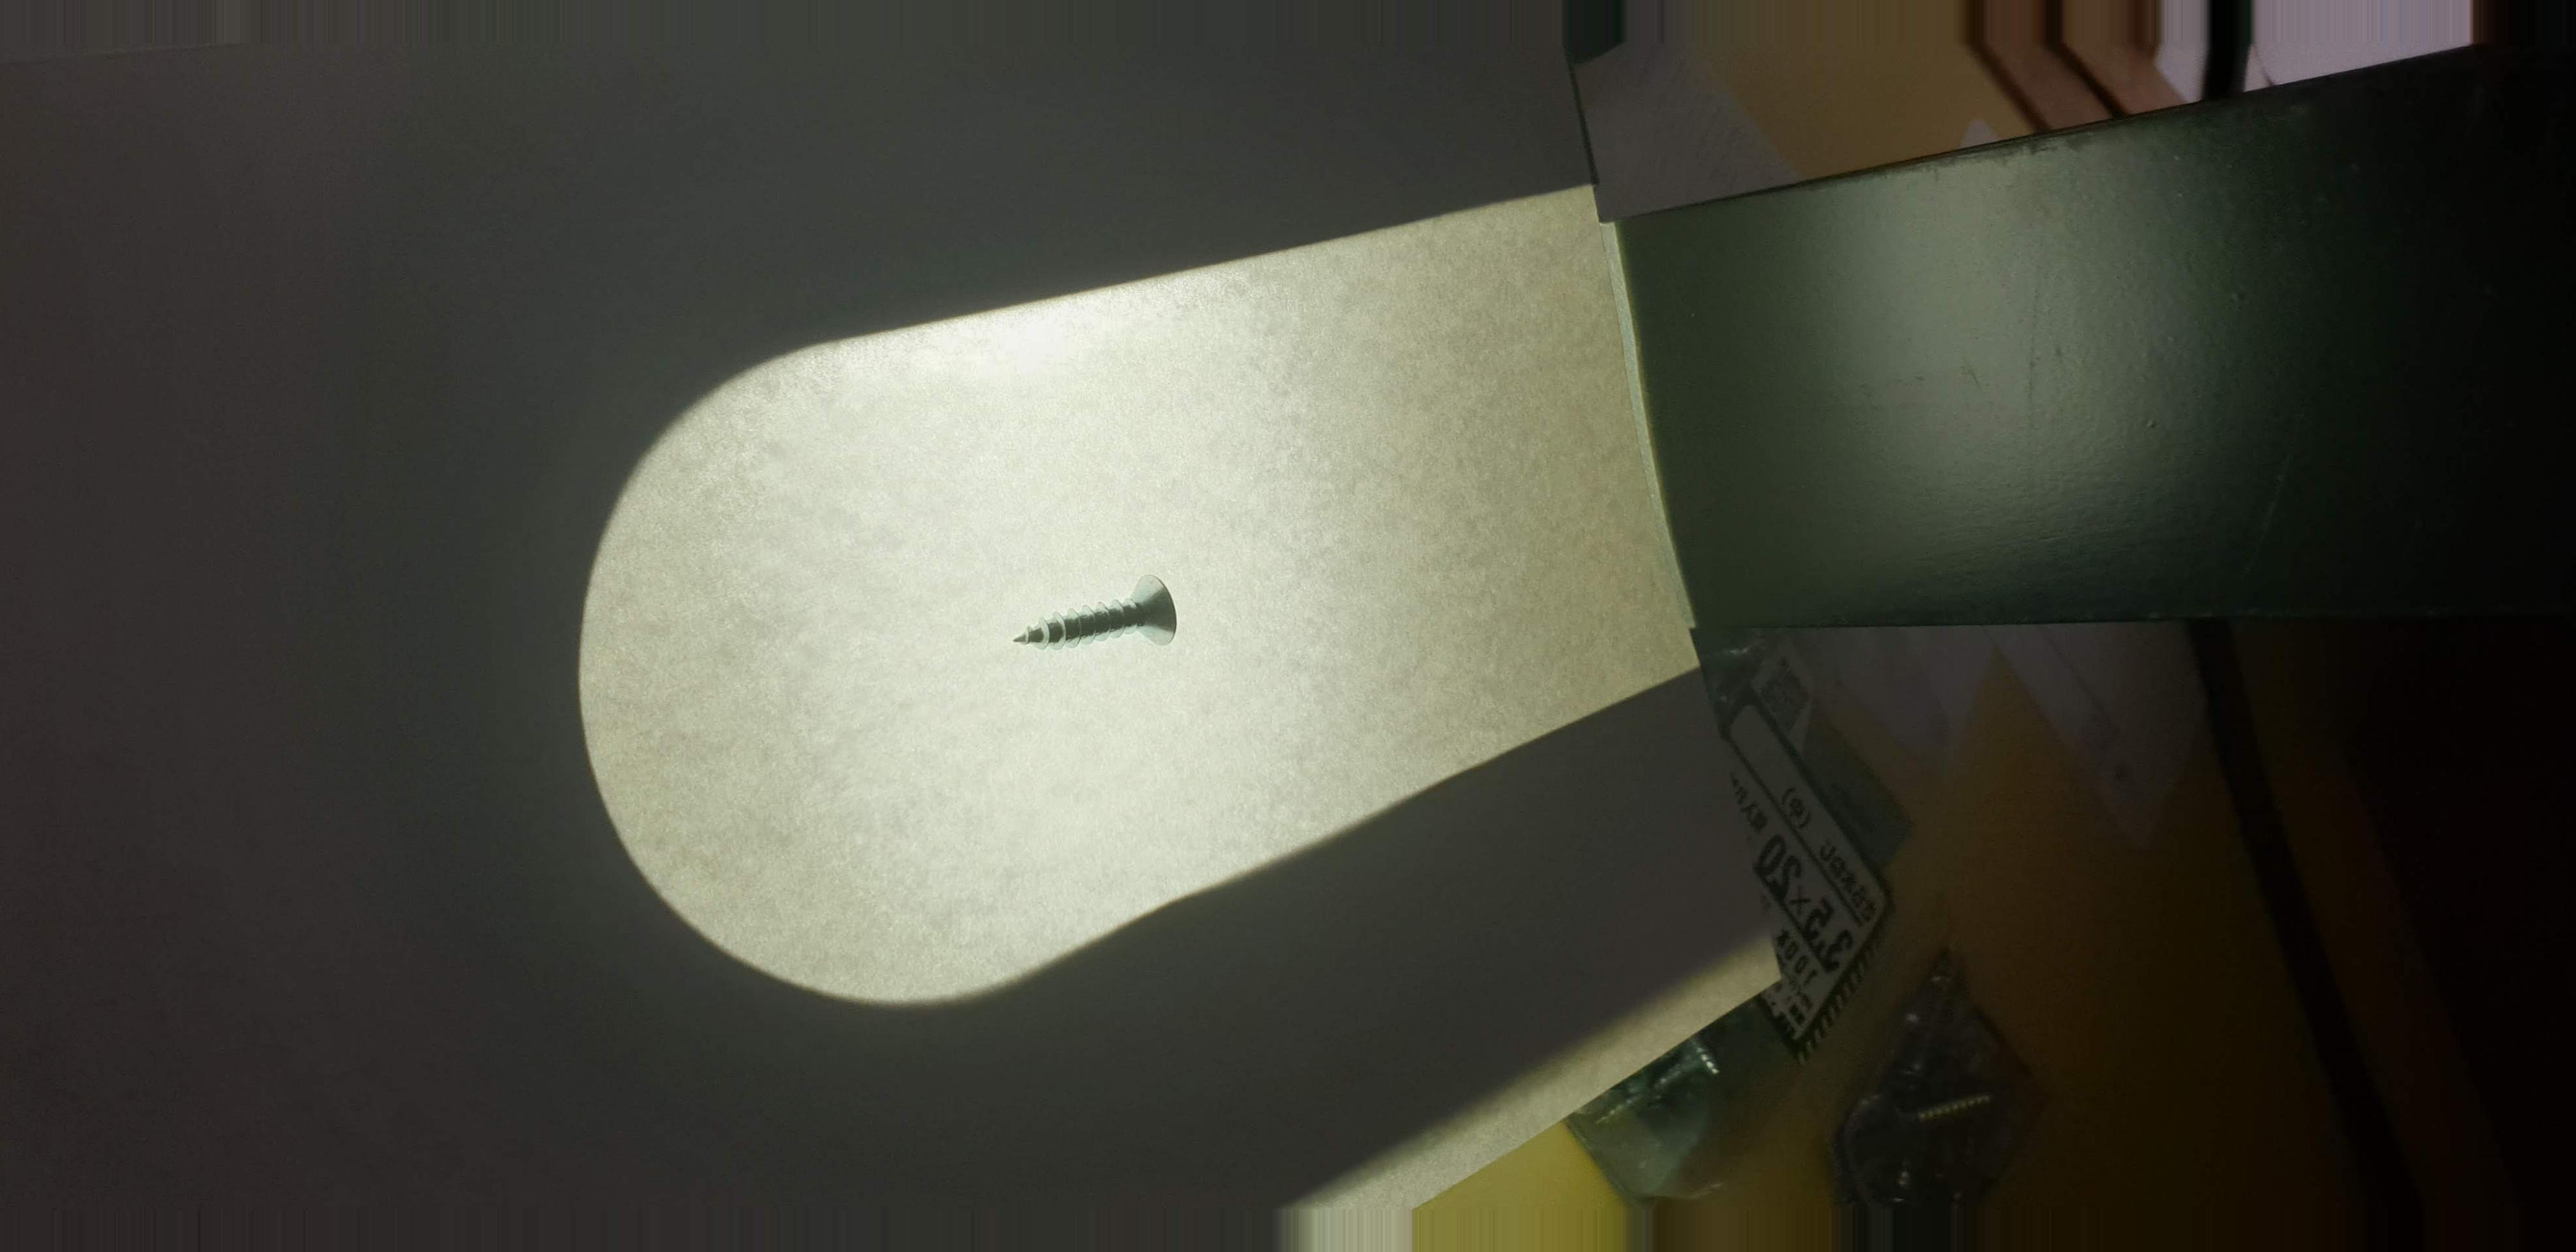S003: (992, 564, 1209, 675)
